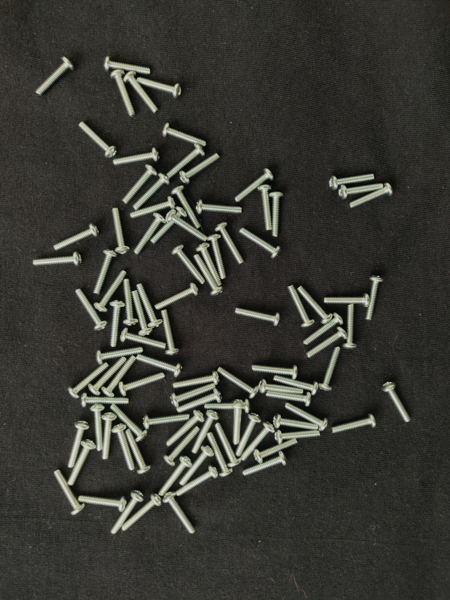longscrew: (34, 55, 76, 99), (120, 492, 162, 534), (87, 356, 129, 397), (77, 120, 120, 160), (67, 362, 111, 401), (51, 468, 86, 517), (123, 71, 161, 116), (109, 490, 145, 537), (162, 426, 202, 468), (101, 355, 138, 400), (93, 268, 129, 314), (148, 206, 188, 247), (164, 410, 205, 450), (73, 287, 109, 332), (131, 173, 171, 213), (165, 143, 206, 182), (120, 165, 158, 207), (239, 421, 276, 464), (381, 379, 414, 427), (164, 209, 209, 244), (163, 491, 198, 536), (133, 212, 167, 258), (234, 167, 275, 205), (178, 446, 214, 489), (157, 456, 193, 499), (174, 466, 219, 500), (109, 405, 149, 443), (215, 367, 261, 400), (214, 221, 247, 267), (171, 244, 207, 286), (109, 68, 138, 120), (67, 439, 97, 489), (305, 327, 349, 361), (238, 227, 283, 260), (193, 253, 226, 298), (297, 285, 334, 325), (171, 185, 203, 231), (52, 223, 101, 253), (178, 152, 222, 185), (134, 283, 164, 331), (302, 314, 344, 348), (214, 421, 244, 468), (286, 285, 317, 330), (124, 428, 153, 476), (206, 431, 235, 479), (161, 122, 210, 150), (242, 451, 289, 480), (348, 183, 395, 212), (195, 242, 224, 289), (191, 409, 220, 456), (175, 388, 223, 416), (153, 284, 199, 313), (92, 247, 118, 298), (283, 403, 330, 431), (235, 412, 263, 459), (317, 346, 344, 394), (169, 383, 217, 410), (128, 196, 177, 222), (252, 439, 299, 466), (135, 76, 185, 101), (135, 353, 185, 378), (112, 424, 137, 473), (67, 419, 91, 470), (118, 373, 166, 398), (329, 413, 378, 437), (119, 328, 168, 352), (110, 206, 133, 256), (131, 291, 155, 338), (233, 307, 284, 329), (205, 233, 228, 281), (112, 146, 162, 168), (272, 375, 321, 397), (102, 56, 153, 77), (365, 274, 386, 324), (94, 346, 145, 366), (160, 309, 181, 357), (31, 250, 84, 269), (108, 298, 127, 351), (171, 371, 221, 391), (329, 171, 376, 192), (272, 414, 320, 434), (142, 412, 190, 432), (78, 495, 130, 513), (337, 182, 385, 201), (265, 390, 315, 408), (122, 278, 140, 328), (274, 428, 321, 447), (257, 184, 274, 234), (195, 200, 245, 217), (80, 393, 130, 410), (100, 413, 117, 463), (251, 364, 300, 381), (343, 302, 360, 351), (269, 190, 286, 239), (203, 399, 253, 415), (323, 293, 373, 309), (89, 404, 105, 454), (258, 379, 305, 396), (231, 399, 247, 447)
